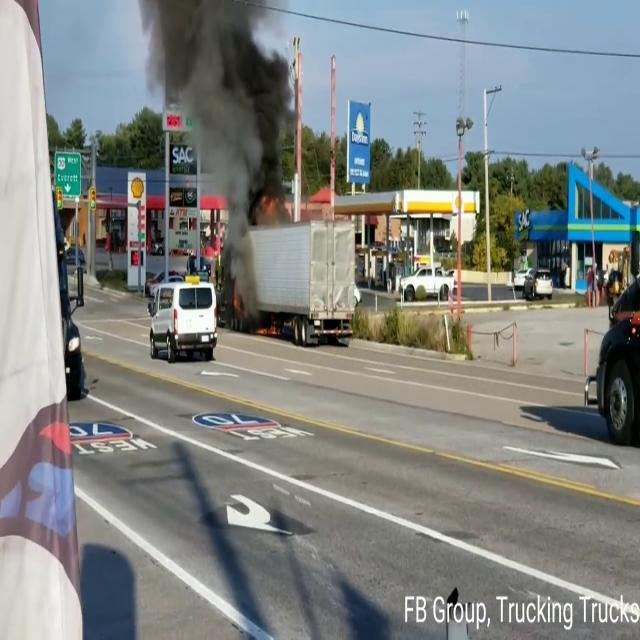Smoke: (141, 0, 298, 273)
